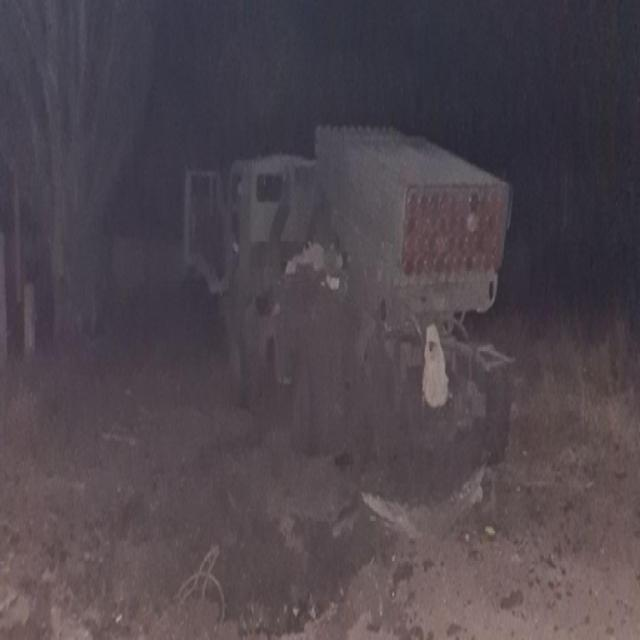MLRS: (182, 116, 518, 473)
